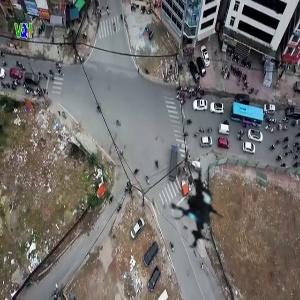drone: (151, 162, 237, 248)
